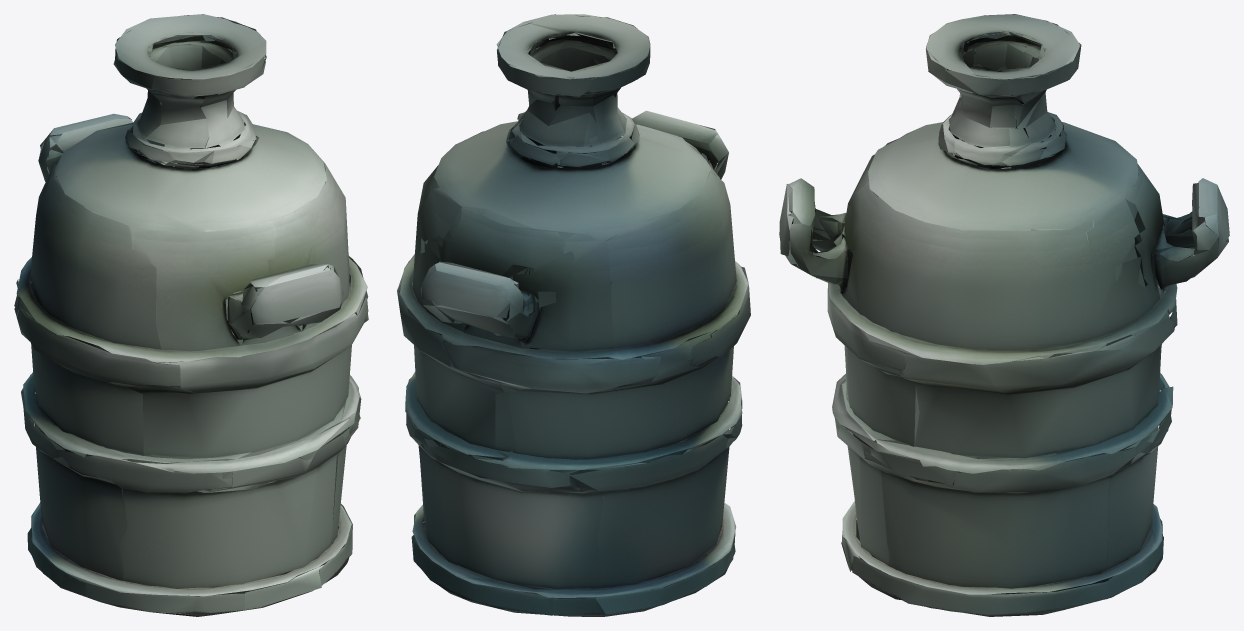
File: milk_churn.fbx
The picture shows the model from 3 angles, left to right: view 1: azimuth 30°, elevation 25°; view 2: azimuth 150°, elevation 25°; view 3: azimuth 270°, elevation 25°; orthographic projection.
Parts seen in each view (by area): view 1: milk_churn; view 2: milk_churn; view 3: milk_churn.
Boxes of the visible parts, x1,y1,x2,y2 form: milk_churn: (14, 14, 368, 616); milk_churn: (397, 14, 750, 616); milk_churn: (779, 14, 1229, 616).
Bounding box in the file's own units: 0.6356 × 1 × 0.8134.
1 material, 1 textured.
